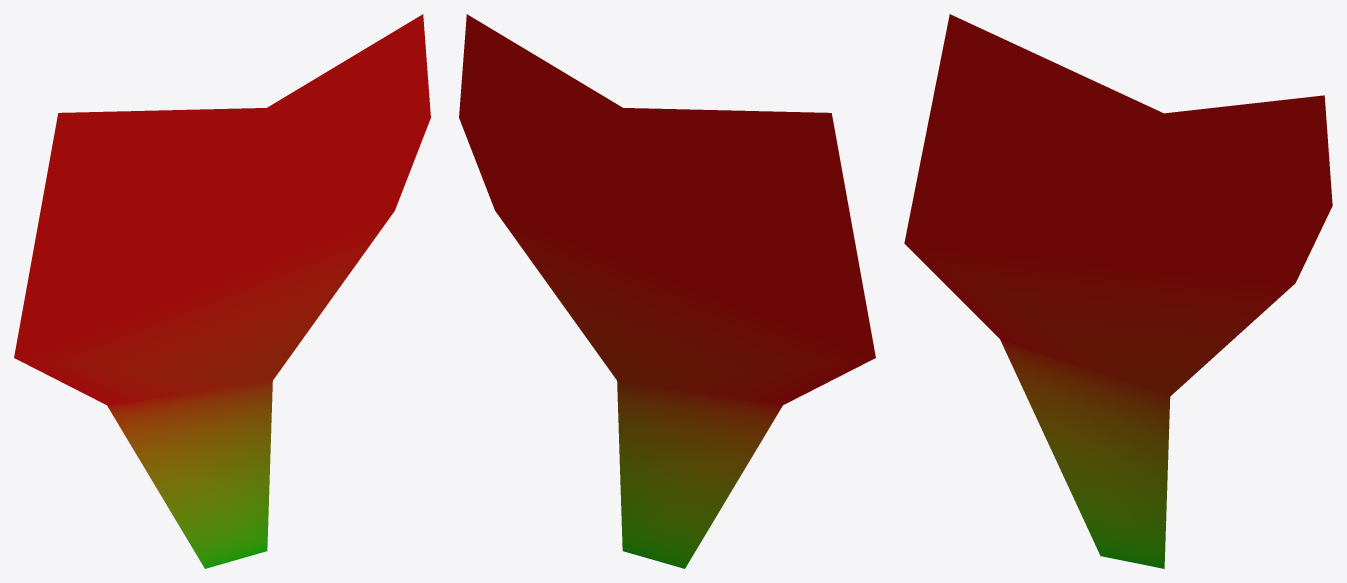
Rendered from Var2_LOD3.fbx.
3 views of the same model, side by side, from view 1: azimuth 30°, elevation 25°; view 2: azimuth 150°, elevation 25°; view 3: azimuth 330°, elevation 25° (orthographic). The views are drawn at different scales.
Parts seen in each view (by area): view 1: _86d8_Var2_LOD3; view 2: _86d8_Var2_LOD3; view 3: _86d8_Var2_LOD3.
Boxes of the visible parts, bbox=[...] form: _86d8_Var2_LOD3: bbox=[14, 14, 430, 568]; _86d8_Var2_LOD3: bbox=[459, 14, 875, 568]; _86d8_Var2_LOD3: bbox=[904, 14, 1332, 568].
Bounding box in the file's own units: 35.1 × 40.36 × 1.91e-06.
